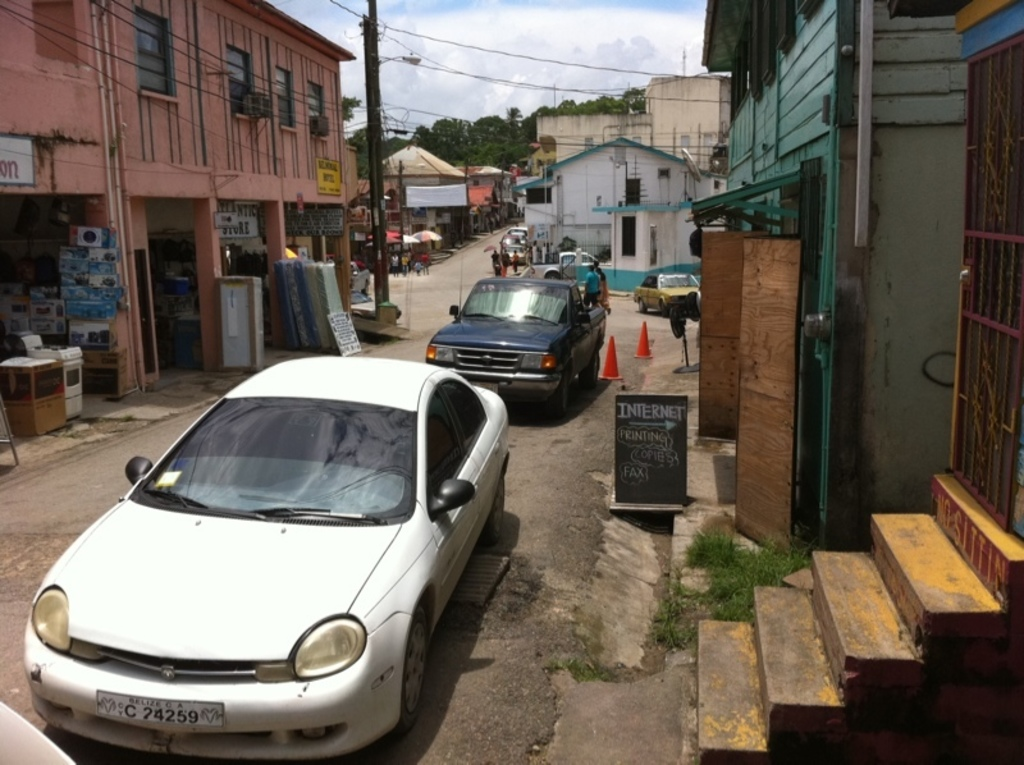mobil: (29, 351, 516, 765), (439, 271, 612, 403)
